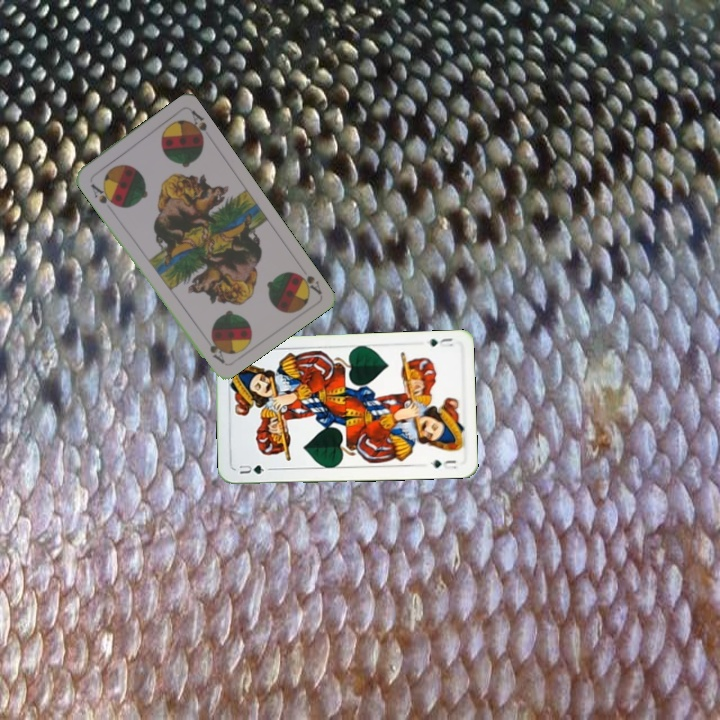GU: (235, 461, 273, 476), (425, 334, 456, 350)
SA: (86, 179, 119, 209), (291, 268, 324, 296)
